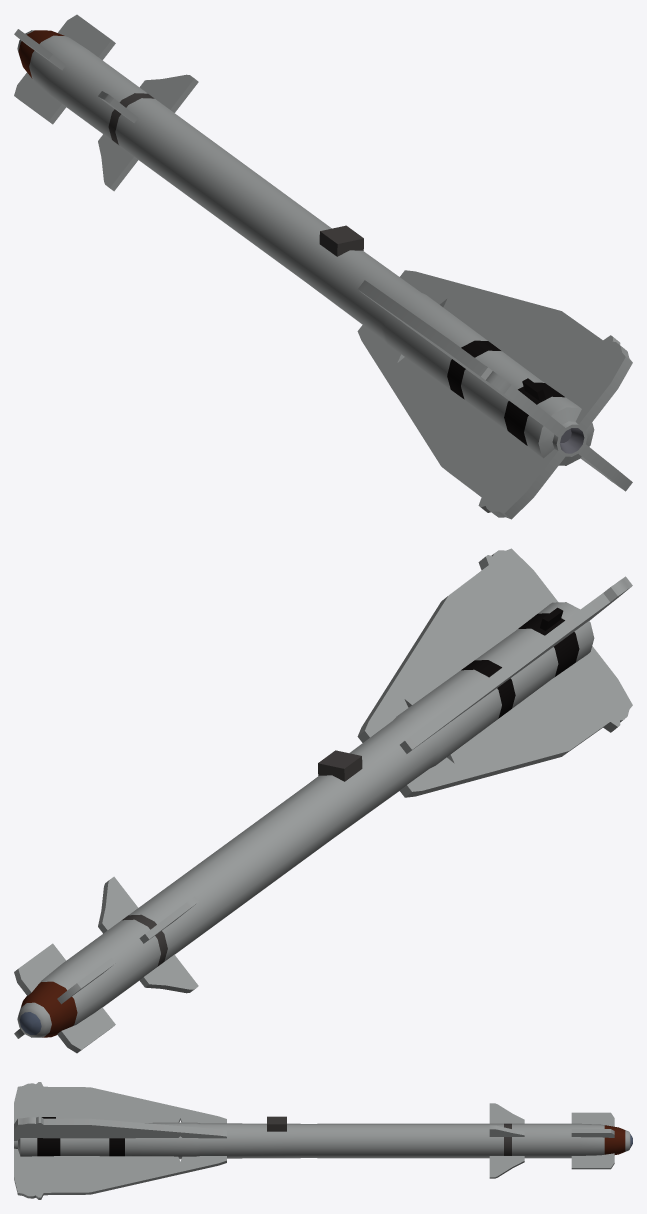
3 renders of one model, top to bottom at view 1: azimuth 30°, elevation 25°; view 2: azimuth 150°, elevation 25°; view 3: azimuth 270°, elevation 25°, orthographic. The views are drawn at different scales.
Parts seen in each view (by area): view 1: r60; view 2: r60; view 3: r60.
Part boxes in pixels (left/top/right/bottom): r60: left=14, top=14, right=632, bottom=519; r60: left=14, top=548, right=632, bottom=1053; r60: left=14, top=1082, right=632, bottom=1199.
Size of the model in its own units: 0.3217 by 0.3217 by 2.17.
